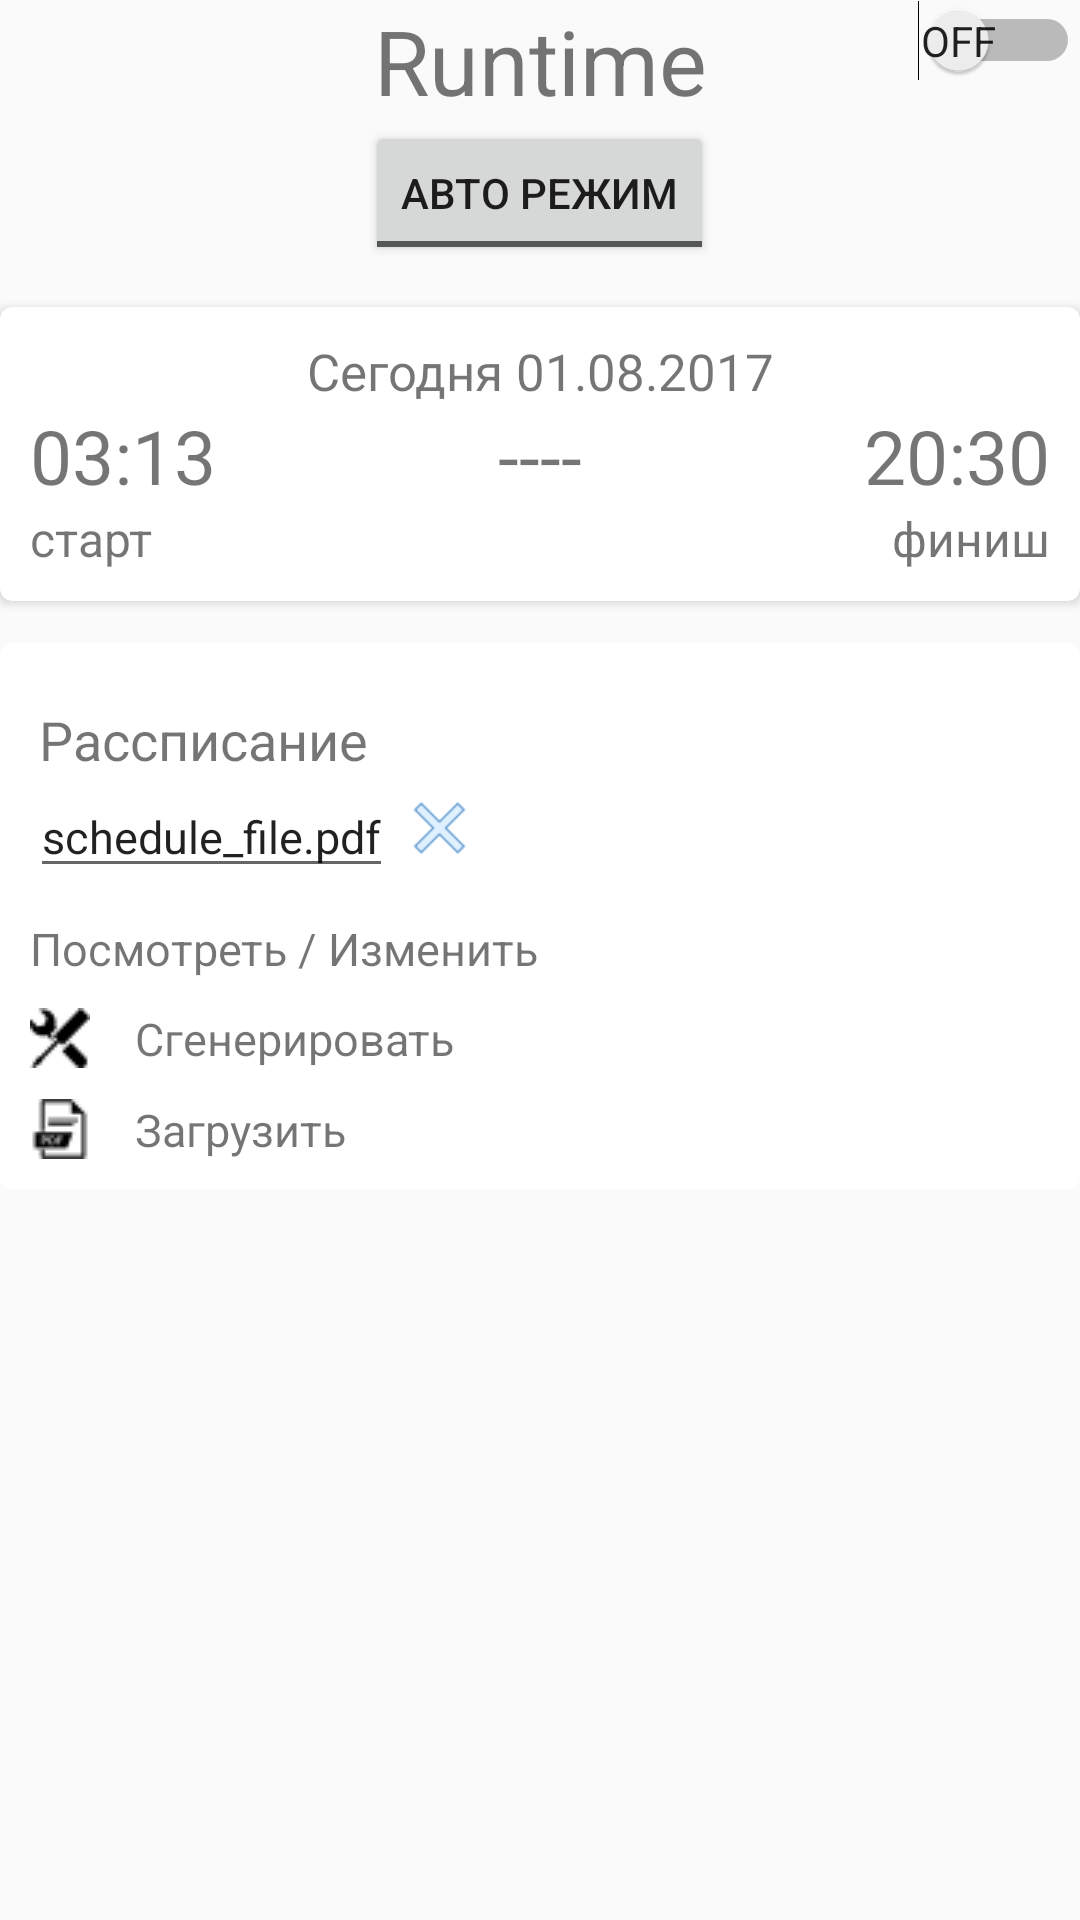

Locate icon controls on the screen. Image size 1080 × 1920, boxes as (x1, y1, x2, y2).
delete: (414, 802, 465, 854)
